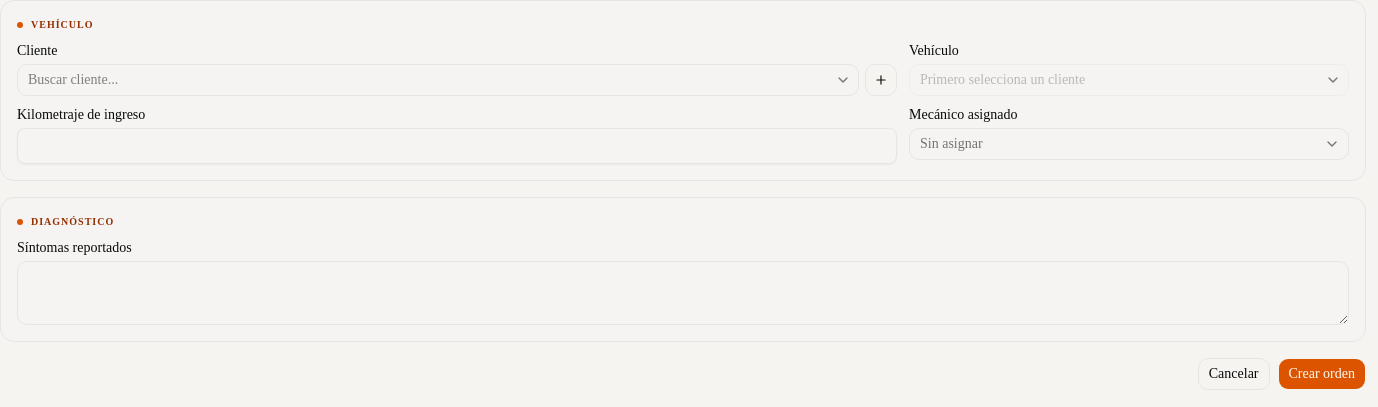
Scenario: NuevaOrdenDesdeCeroForm › renders cliente, vehiculo, kilometraje, sintomas, and mecanico fields
Expected: the dropdown labelled "Vehículo" is shown, [909,64,1349,96]
Expected: the text box labelled "Síntomas reportados" is shown, [17,261,1349,325]
Click the dropdown labelled "Cliente" at x=438, y=80, box [17,64,859,96]
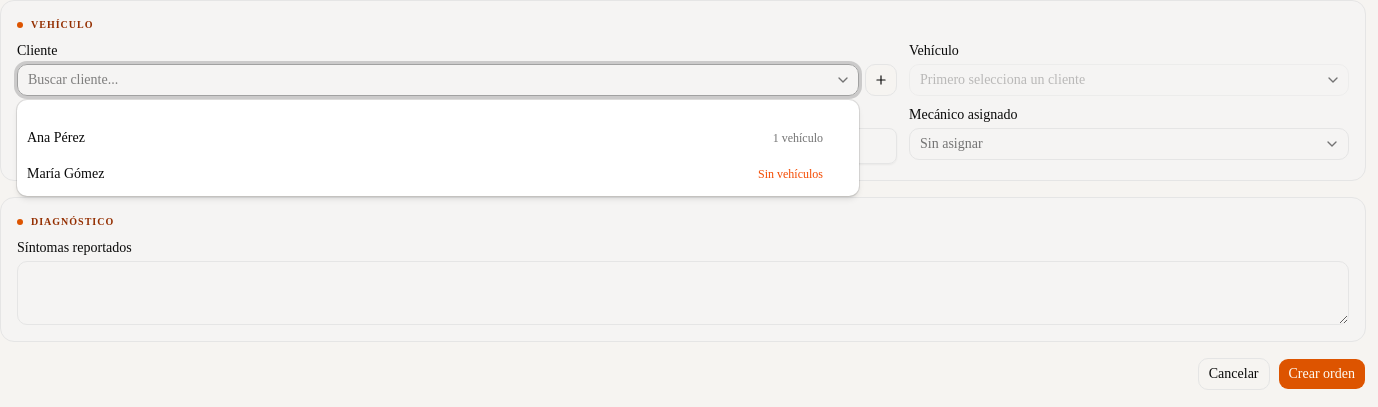
Result: the option "Ana Pérez 1 vehículo" is shown at [27,130,823,145]
